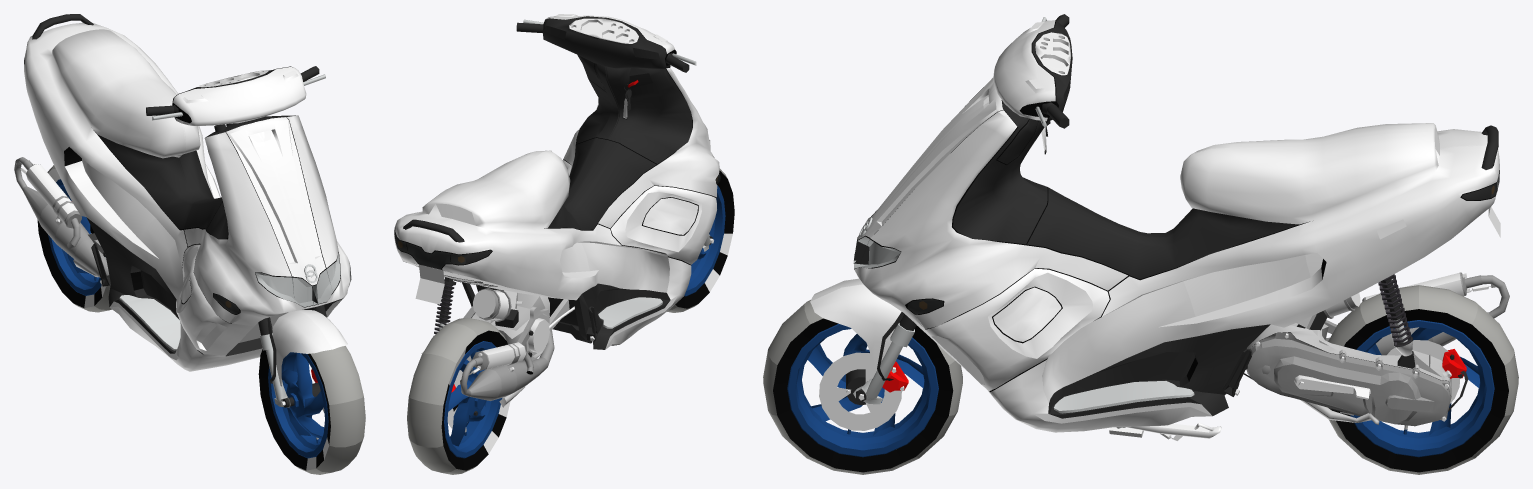
File: MotorBike_Scooter.FBX
The picture shows the model from 3 angles, left to right: view 1: azimuth 30°, elevation 25°; view 2: azimuth 150°, elevation 25°; view 3: azimuth 270°, elevation 25°; orthographic projection. The views are drawn at different scales.
Parts seen in each view (by area): view 1: Body, FrontWheel, WheelSteer, RearForks, FrontForks, RearWheel; view 2: Body, RearWheel, RearForks, WheelSteer, FrontWheel, RegisterBox; view 3: Body, RearForks, RearWheel, FrontWheel, FrontForks, WheelSteer.
Part boxes in pixels (box(x1,y1,x2,y2)): Body: box(24, 14, 351, 371); FrontWheel: box(258, 346, 365, 474); WheelSteer: box(146, 66, 325, 125); RearForks: box(14, 157, 109, 277); FrontForks: box(258, 305, 347, 413); RearWheel: box(37, 165, 111, 312); Body: box(394, 55, 720, 349); RearWheel: box(407, 317, 510, 474); RearForks: box(411, 277, 574, 428); WheelSteer: box(516, 14, 696, 72); FrontWheel: box(667, 168, 734, 312); RegisterBox: box(415, 264, 444, 304); Body: box(853, 77, 1499, 440); RearForks: box(1244, 272, 1509, 426); RearWheel: box(1328, 285, 1518, 474); FrontWheel: box(763, 300, 962, 474); FrontForks: box(810, 278, 916, 430); WheelSteer: box(993, 14, 1072, 128).
Size of the model in its own units: 0.6435 by 1.19 by 1.94.
